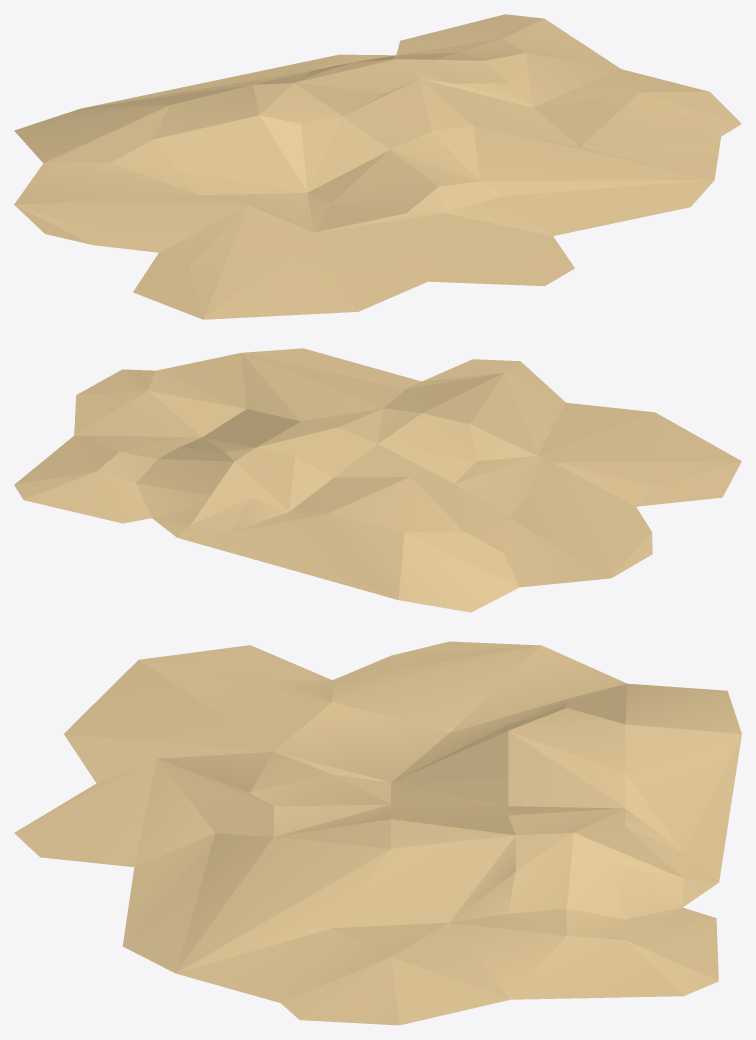
Rendered from ground.FBX.
3 views of the same model, one above another, from view 1: azimuth 30°, elevation 25°; view 2: azimuth 150°, elevation 25°; view 3: azimuth 270°, elevation 25° (orthographic). The views are drawn at different scales.
Parts seen in each view (by area): view 1: Uneven_Ground_Dirt_01; view 2: Uneven_Ground_Dirt_01; view 3: Uneven_Ground_Dirt_01.
Part boxes in pixels (x1,y1,x2,y2): Uneven_Ground_Dirt_01: [14, 14, 741, 319]; Uneven_Ground_Dirt_01: [14, 348, 741, 612]; Uneven_Ground_Dirt_01: [14, 641, 741, 1025].
Bounding box in the file's own units: 689 × 44.07 × 552.
